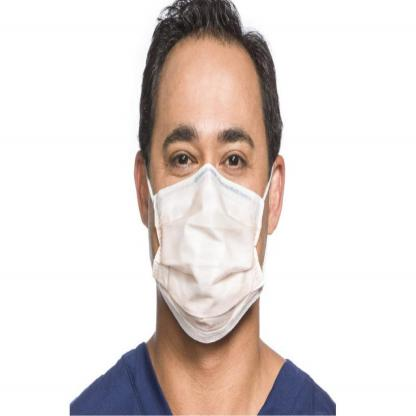Wearing_Mask: (148, 116, 266, 340)
